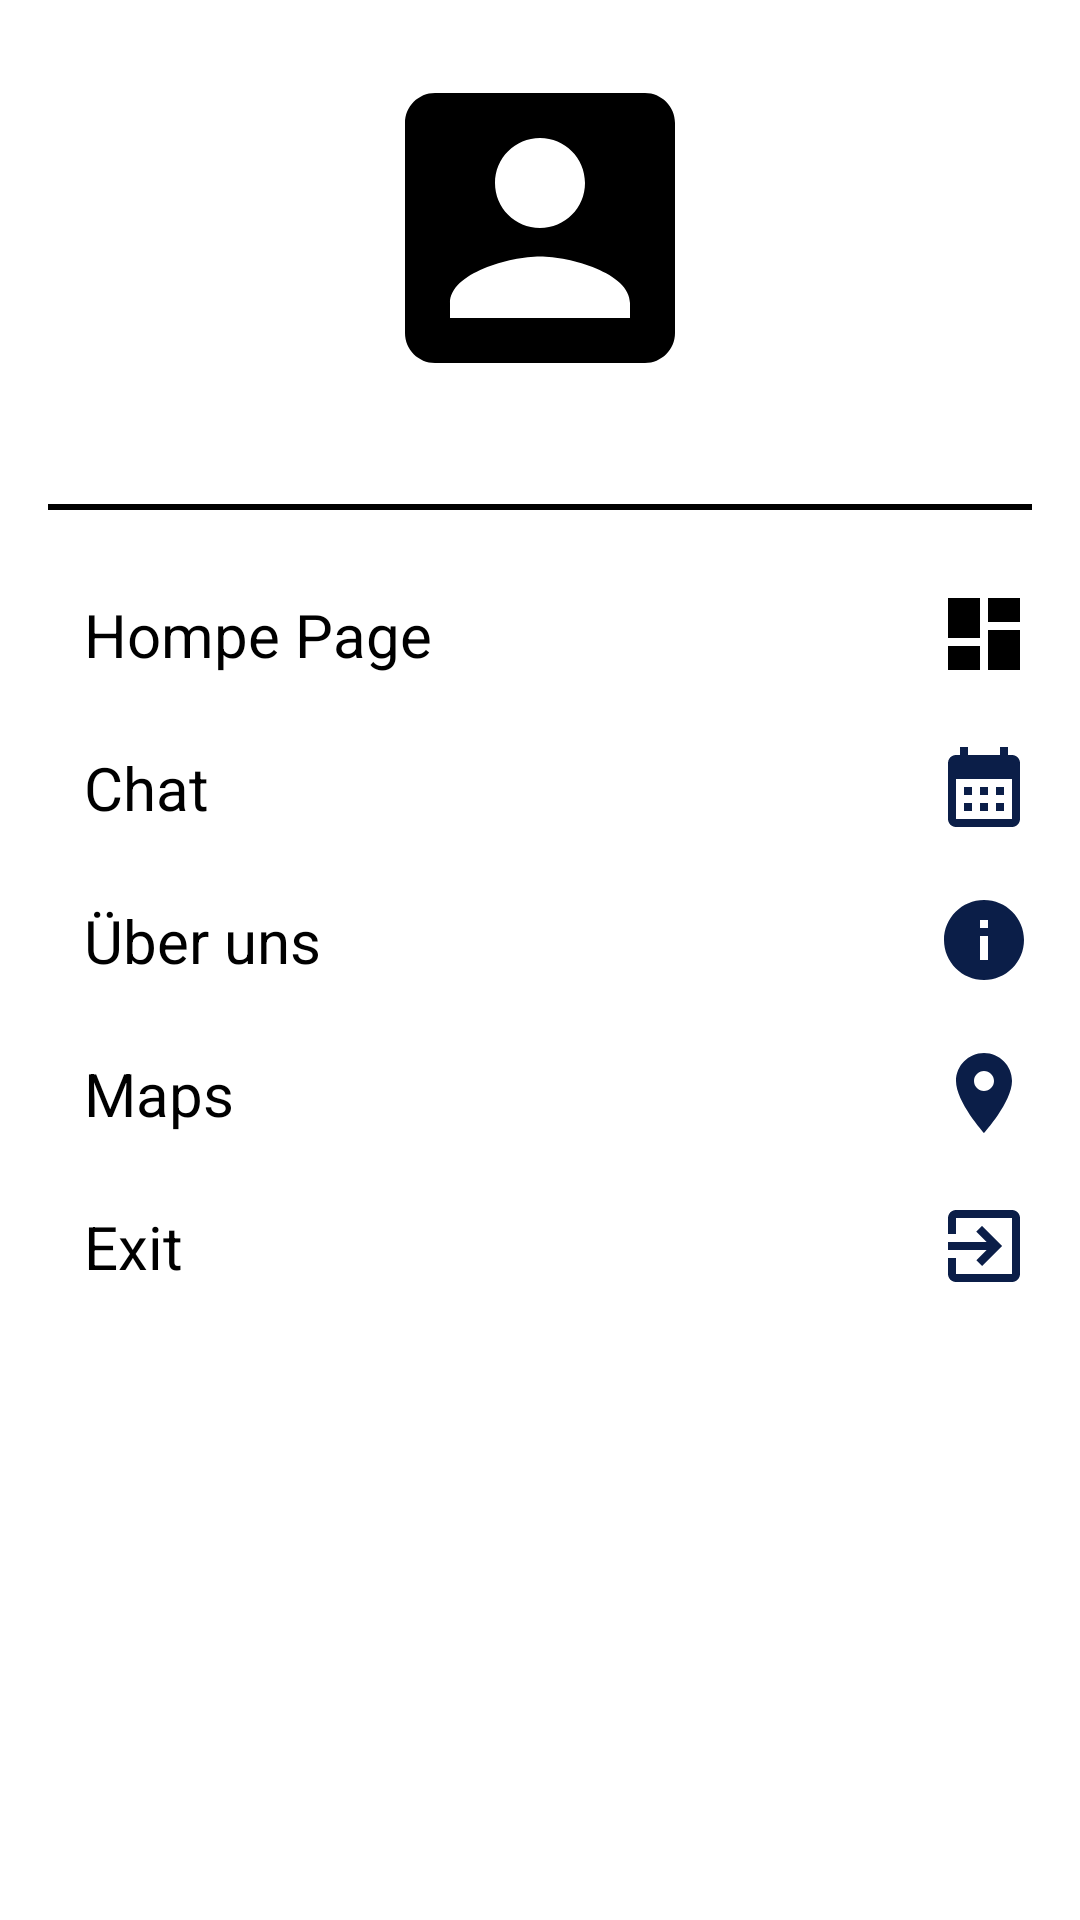

Named icons in this screenshot (1080 × 1920) and their bounding boxes, (x1, y1, x2, y2):
account box: (405, 93, 675, 363)
calendar month: (948, 747, 1020, 827)
dashboard: (948, 598, 1020, 670)
info: (944, 900, 1024, 980)
place: (956, 1053, 1012, 1133)
